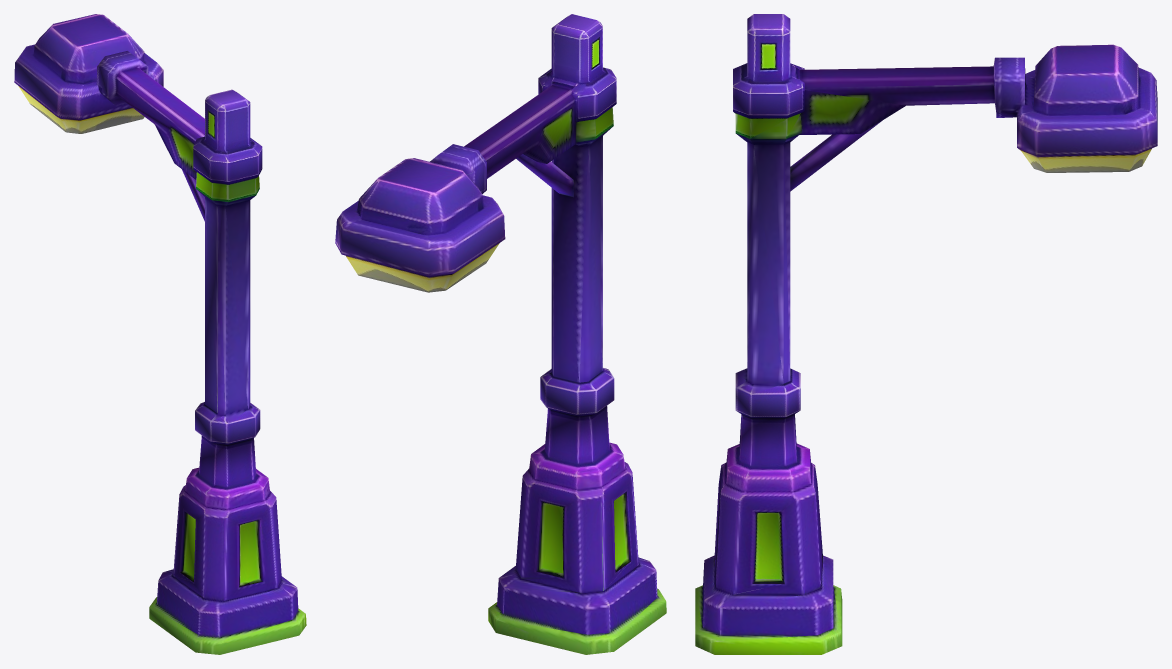
File: street_lamp_01.glb
3 views of the same model, side by side, from view 1: azimuth 30°, elevation 25°; view 2: azimuth 150°, elevation 25°; view 3: azimuth 270°, elevation 25° (orthographic). The views are drawn at different scales.
Parts seen in each view (by area): view 1: tripo_node_a51b003a-0f8e-4ac2-b8b7-d0a9d36a7a1e; view 2: tripo_node_a51b003a-0f8e-4ac2-b8b7-d0a9d36a7a1e; view 3: tripo_node_a51b003a-0f8e-4ac2-b8b7-d0a9d36a7a1e.
Boxes of the visible parts, <box> form: tripo_node_a51b003a-0f8e-4ac2-b8b7-d0a9d36a7a1e: <box>14,14,306,654</box>; tripo_node_a51b003a-0f8e-4ac2-b8b7-d0a9d36a7a1e: <box>335,14,666,654</box>; tripo_node_a51b003a-0f8e-4ac2-b8b7-d0a9d36a7a1e: <box>695,14,1157,654</box>.
Bounding box in the file's own units: 0.2207 × 0.998 × 0.6934.
Materials: 1 (1 with a texture image).
